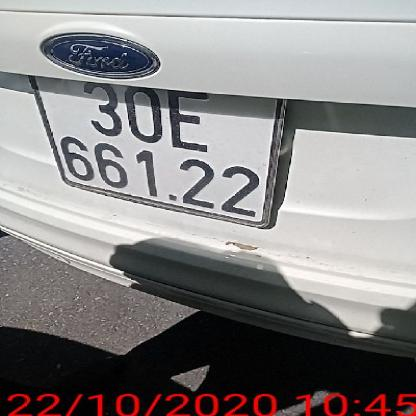biensoxe: (26, 72, 293, 231)
